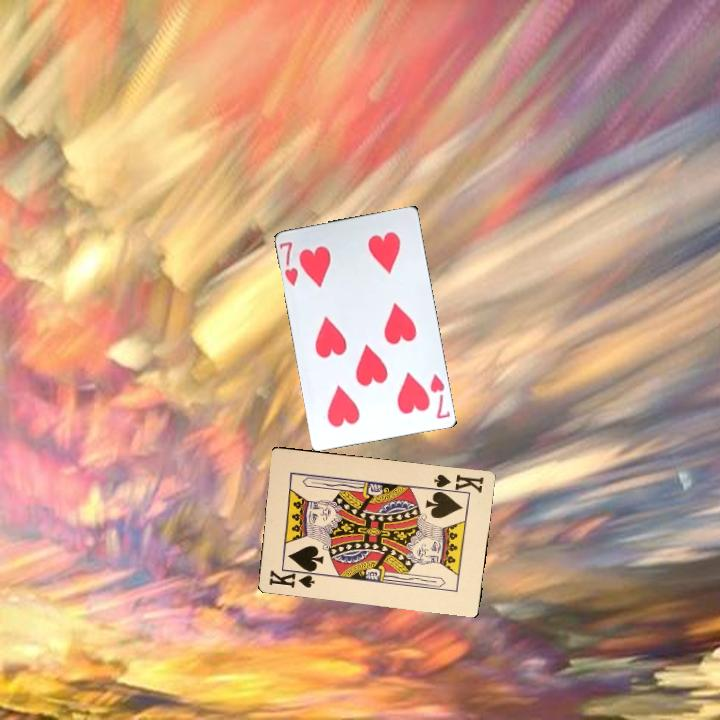7h: (426, 370, 453, 421), (276, 237, 301, 288)
Ks: (431, 470, 486, 498), (265, 564, 319, 590)
